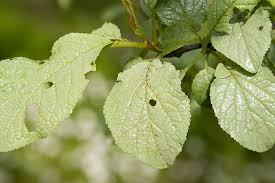Diseased_Leaves: (23, 101, 44, 135), (126, 10, 144, 29), (148, 96, 159, 109), (42, 81, 58, 89)
